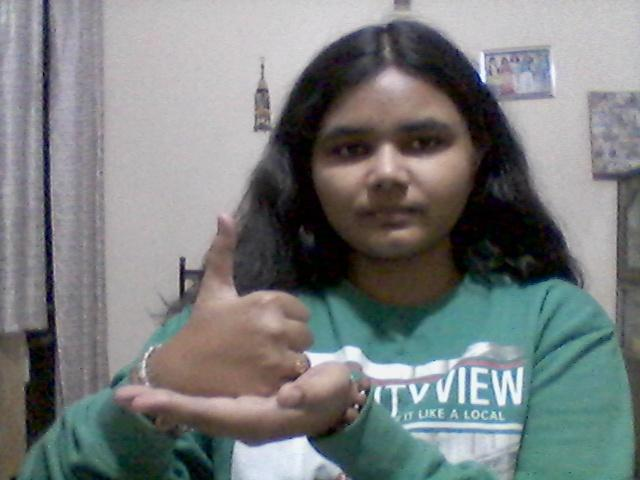help: (114, 206, 365, 448)
